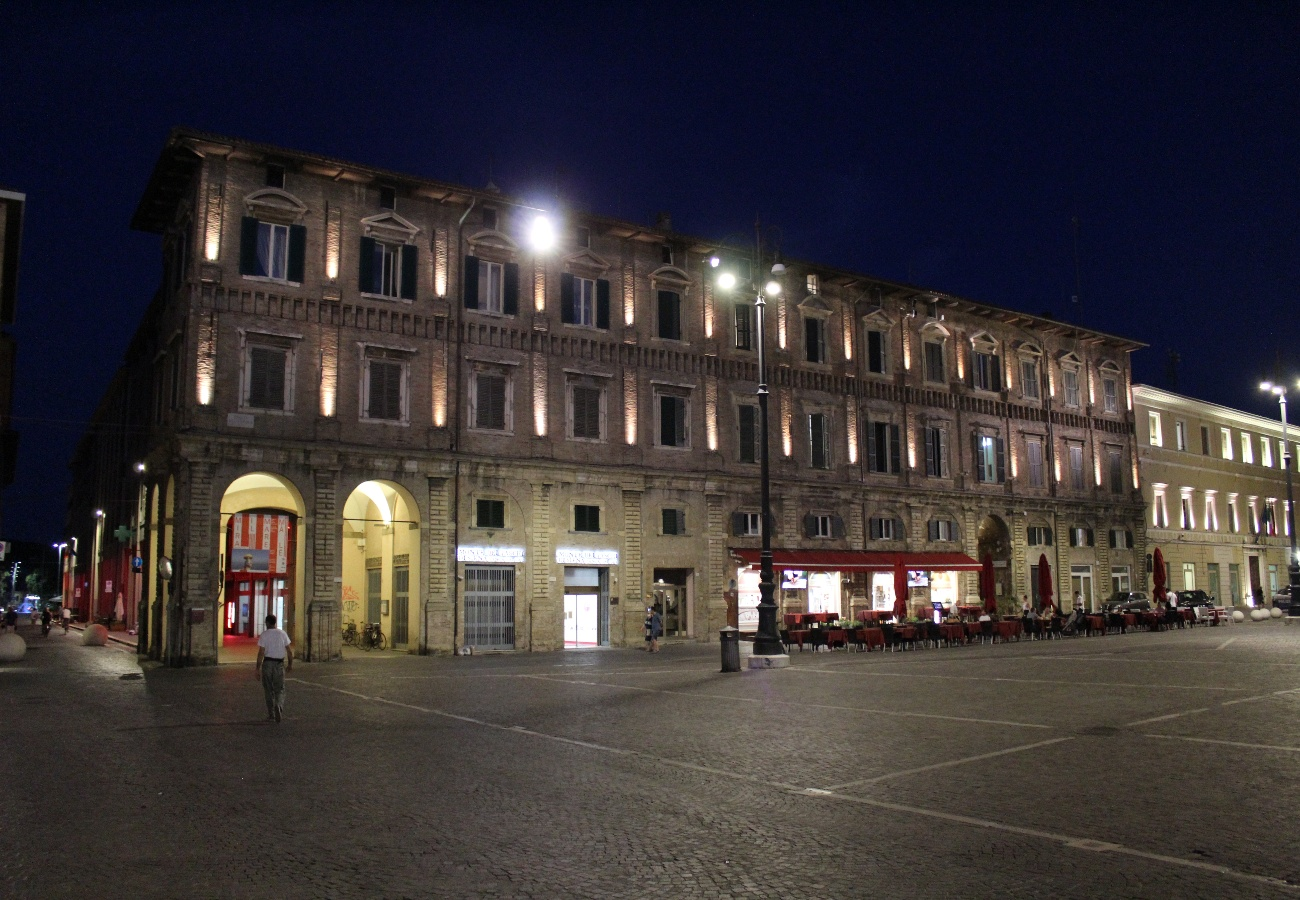Palazzo Baviera: (173, 135, 1146, 666)
